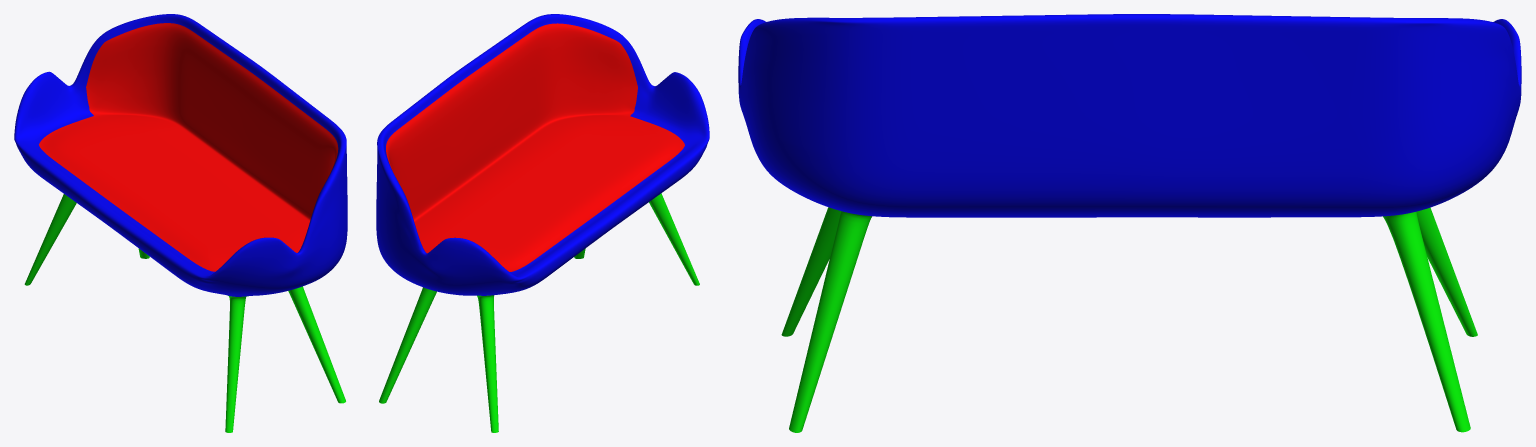
The model's file is bench-Highpoly.fbx.
3 views of the same model, side by side, from view 1: azimuth 30°, elevation 25°; view 2: azimuth 150°, elevation 25°; view 3: azimuth 270°, elevation 25° (orthographic). The views are drawn at different scales.
Parts seen in each view (by area): view 1: 2p-bench-high; view 2: 2p-bench-high; view 3: 2p-bench-high.
Part boxes in pixels (box(x1,y1,x2,y2)): 2p-bench-high: box(14, 14, 347, 432); 2p-bench-high: box(376, 14, 709, 432); 2p-bench-high: box(738, 14, 1521, 432).
Size of the model in its own units: 62.77 by 93.22 by 153.
